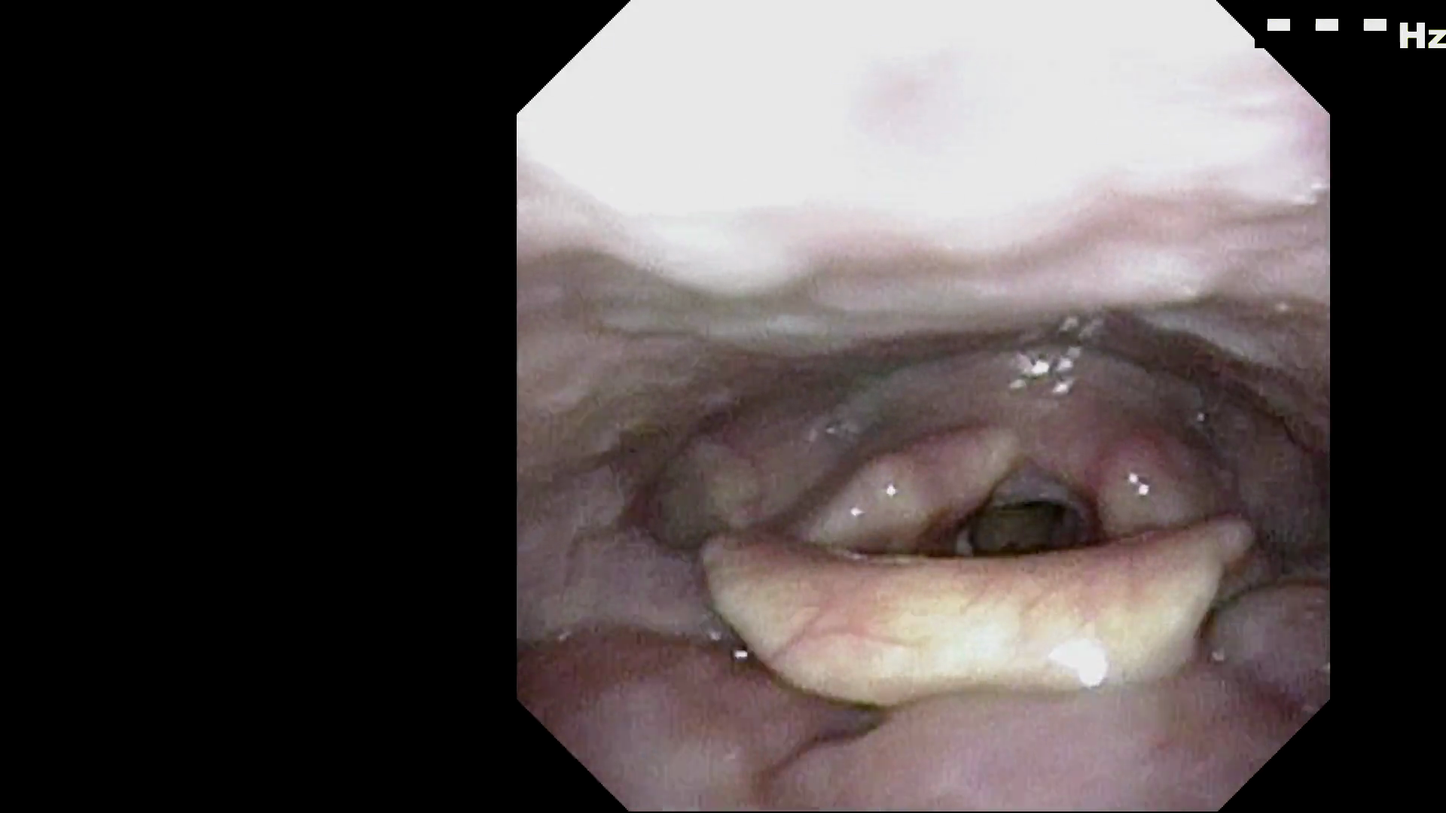epiglottis: (671, 545, 1213, 684)
